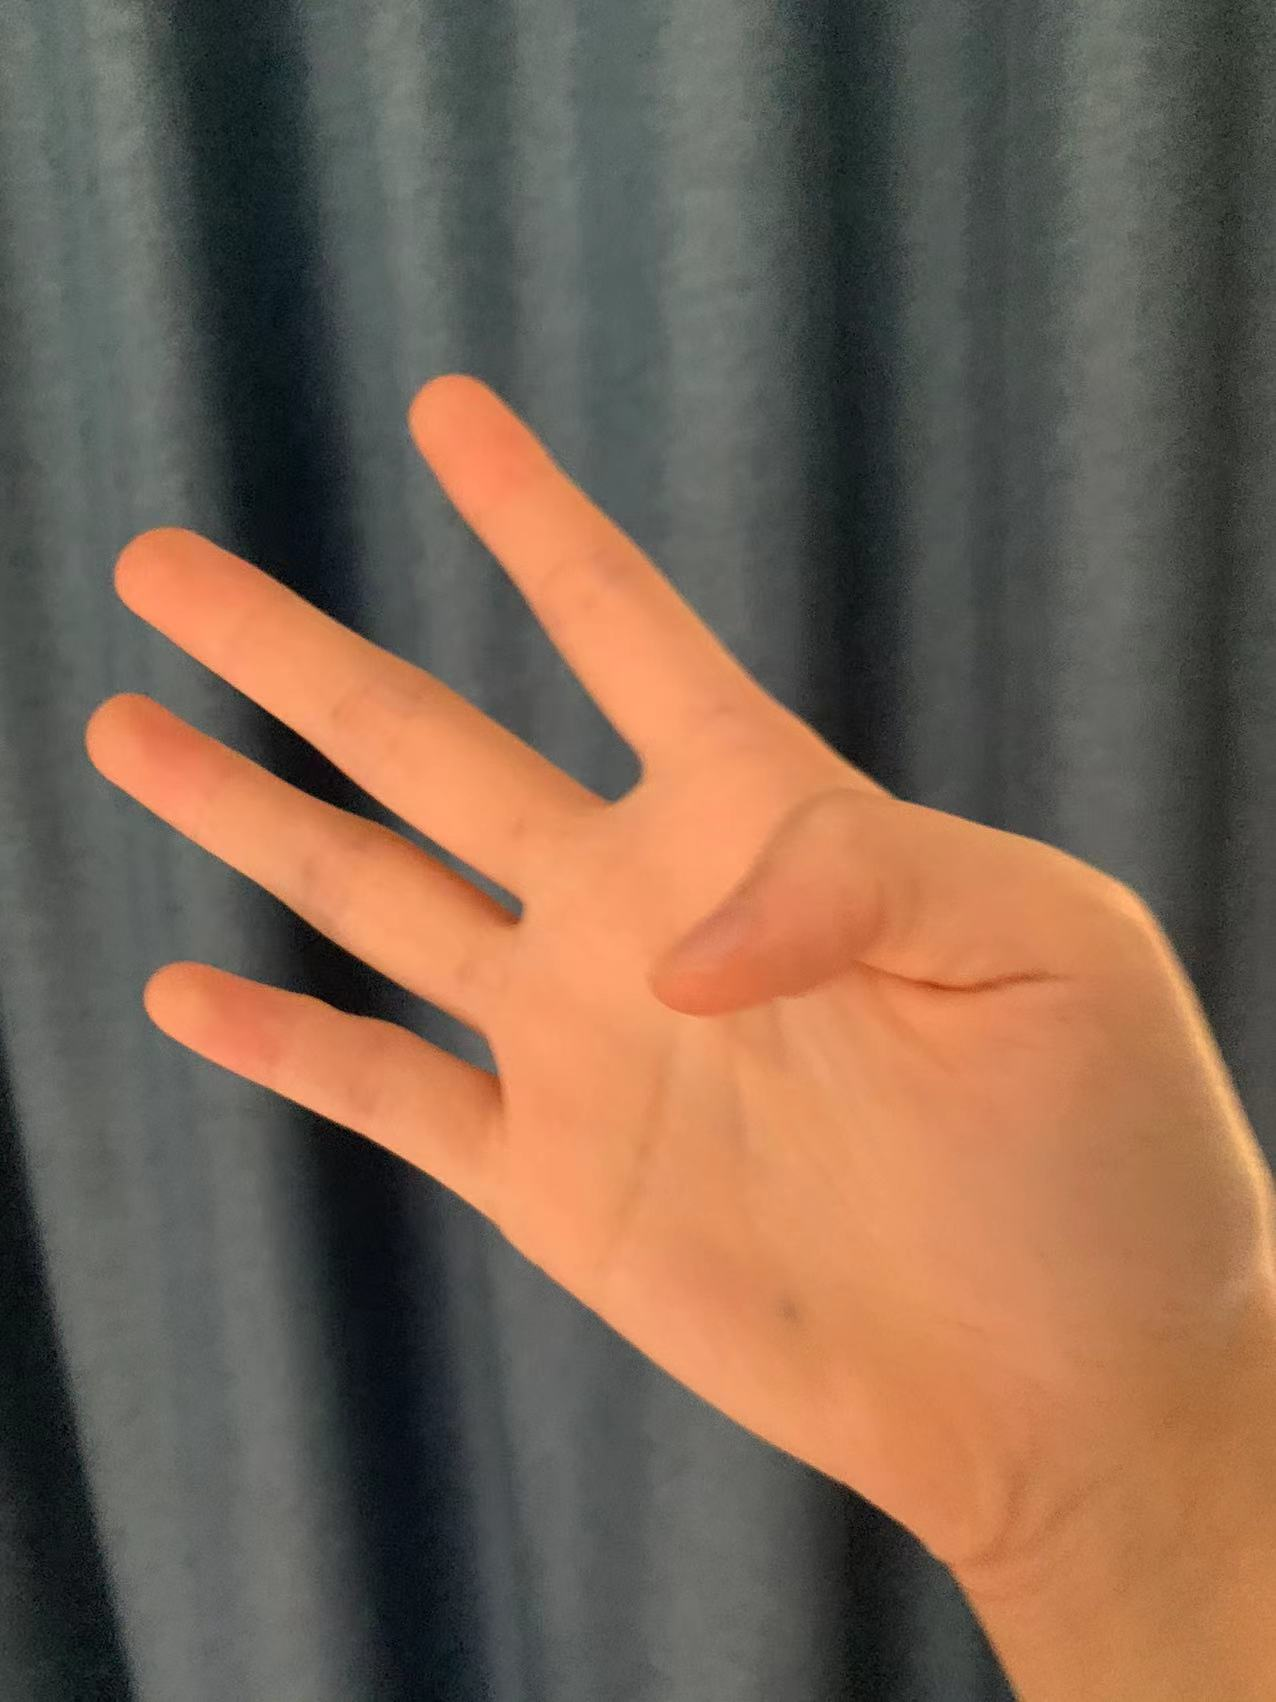right: (84, 373, 1165, 1551)
